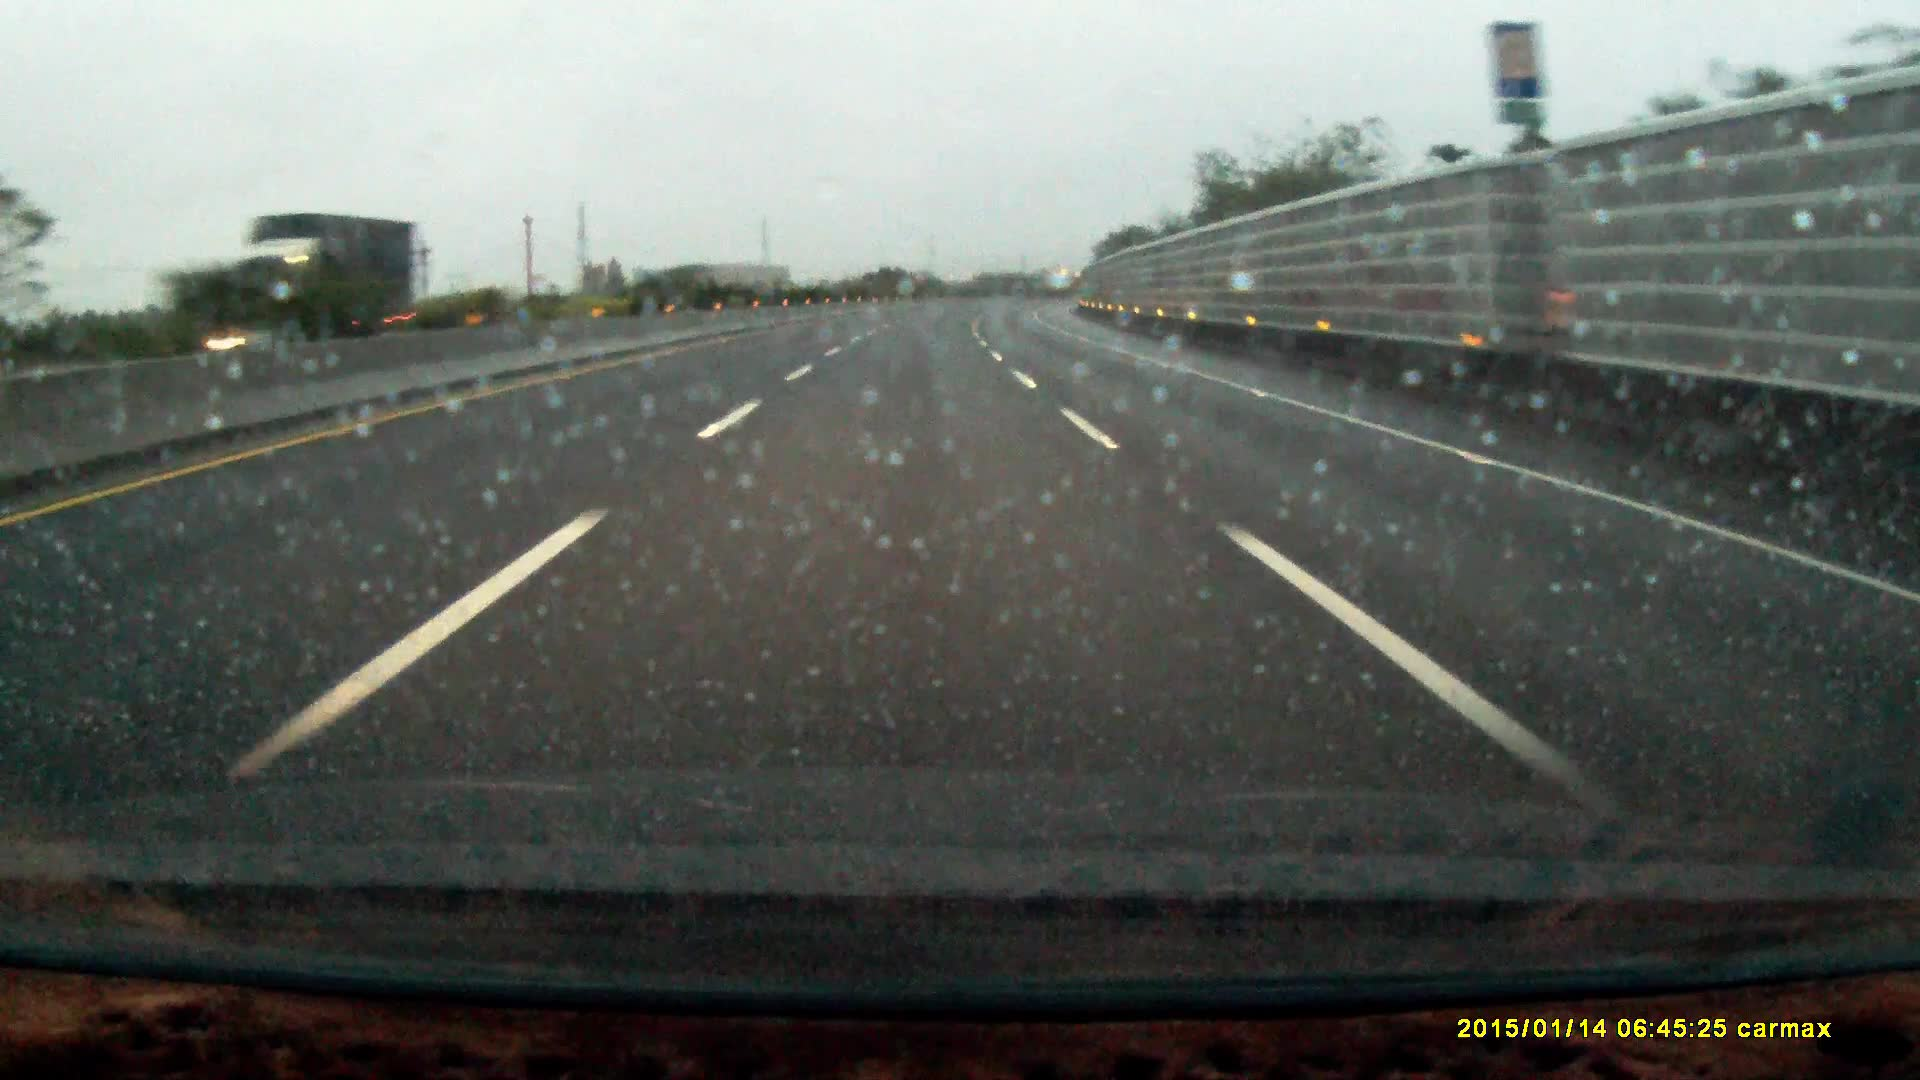vehicle: (228, 211, 419, 340)
